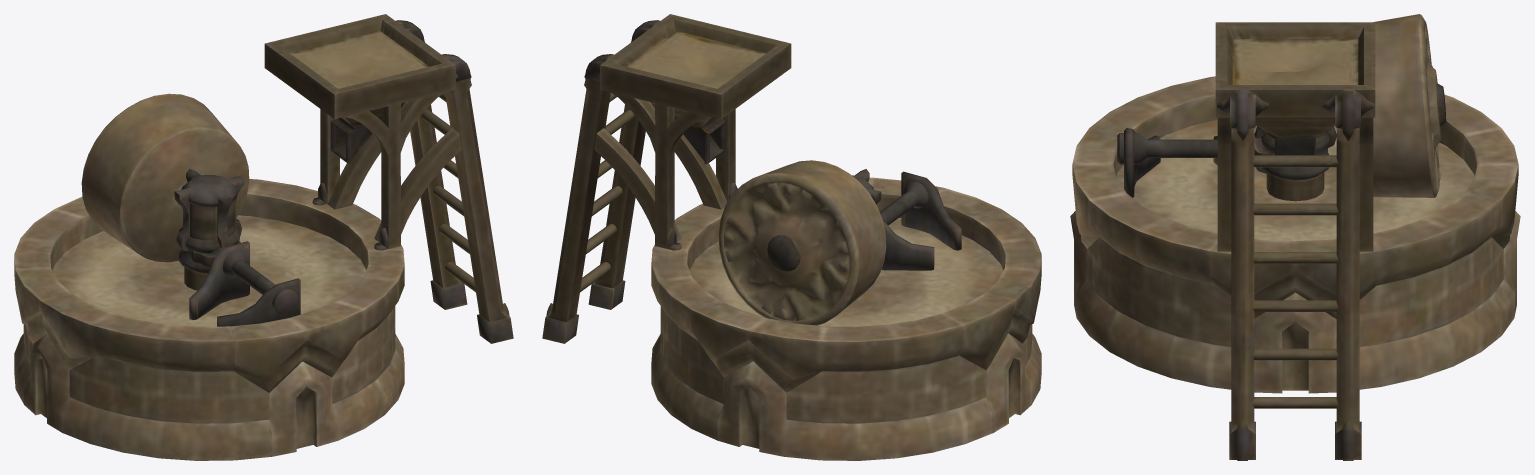
The model's file is improved_grinder.glb.
3 views of the same model, side by side, from view 1: azimuth 30°, elevation 25°; view 2: azimuth 150°, elevation 25°; view 3: azimuth 270°, elevation 25° (orthographic). The views are drawn at different scales.
Visible parts, largest first — view 1: npc_props_GrindingStoneAdvanced_01; view 2: npc_props_GrindingStoneAdvanced_01; view 3: npc_props_GrindingStoneAdvanced_01.
Boxes of the visible parts, x1=… form: npc_props_GrindingStoneAdvanced_01: x1=14, y1=14, x2=513, y2=460; npc_props_GrindingStoneAdvanced_01: x1=542, y1=14, x2=1041, y2=460; npc_props_GrindingStoneAdvanced_01: x1=1070, y1=14, x2=1520, y2=460.
Size of the model in its own units: 3.37 by 2.11 by 2.57.
Materials: 1 (1 with a texture image).
